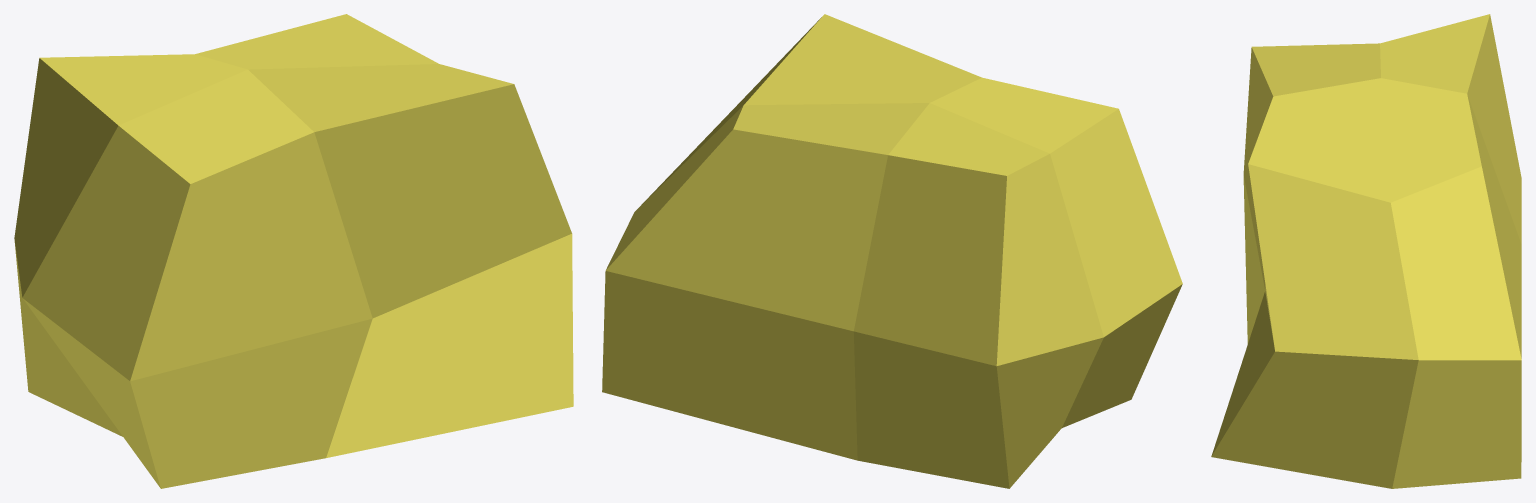
The model's file is Butter_Chunk.fbx.
3 renders of one model, left to right at view 1: azimuth 30°, elevation 25°; view 2: azimuth 150°, elevation 25°; view 3: azimuth 270°, elevation 25°, orthographic. The views are drawn at different scales.
Visible parts, largest first — view 1: Cube.056; view 2: Cube.056; view 3: Cube.056.
Boxes of the visible parts, box(x1,y1,x2,y2) form: Cube.056: box(14, 14, 573, 488); Cube.056: box(602, 14, 1182, 488); Cube.056: box(1211, 14, 1521, 488).
Bounding box in the file's own units: 41.51 × 25.17 × 27.19.
